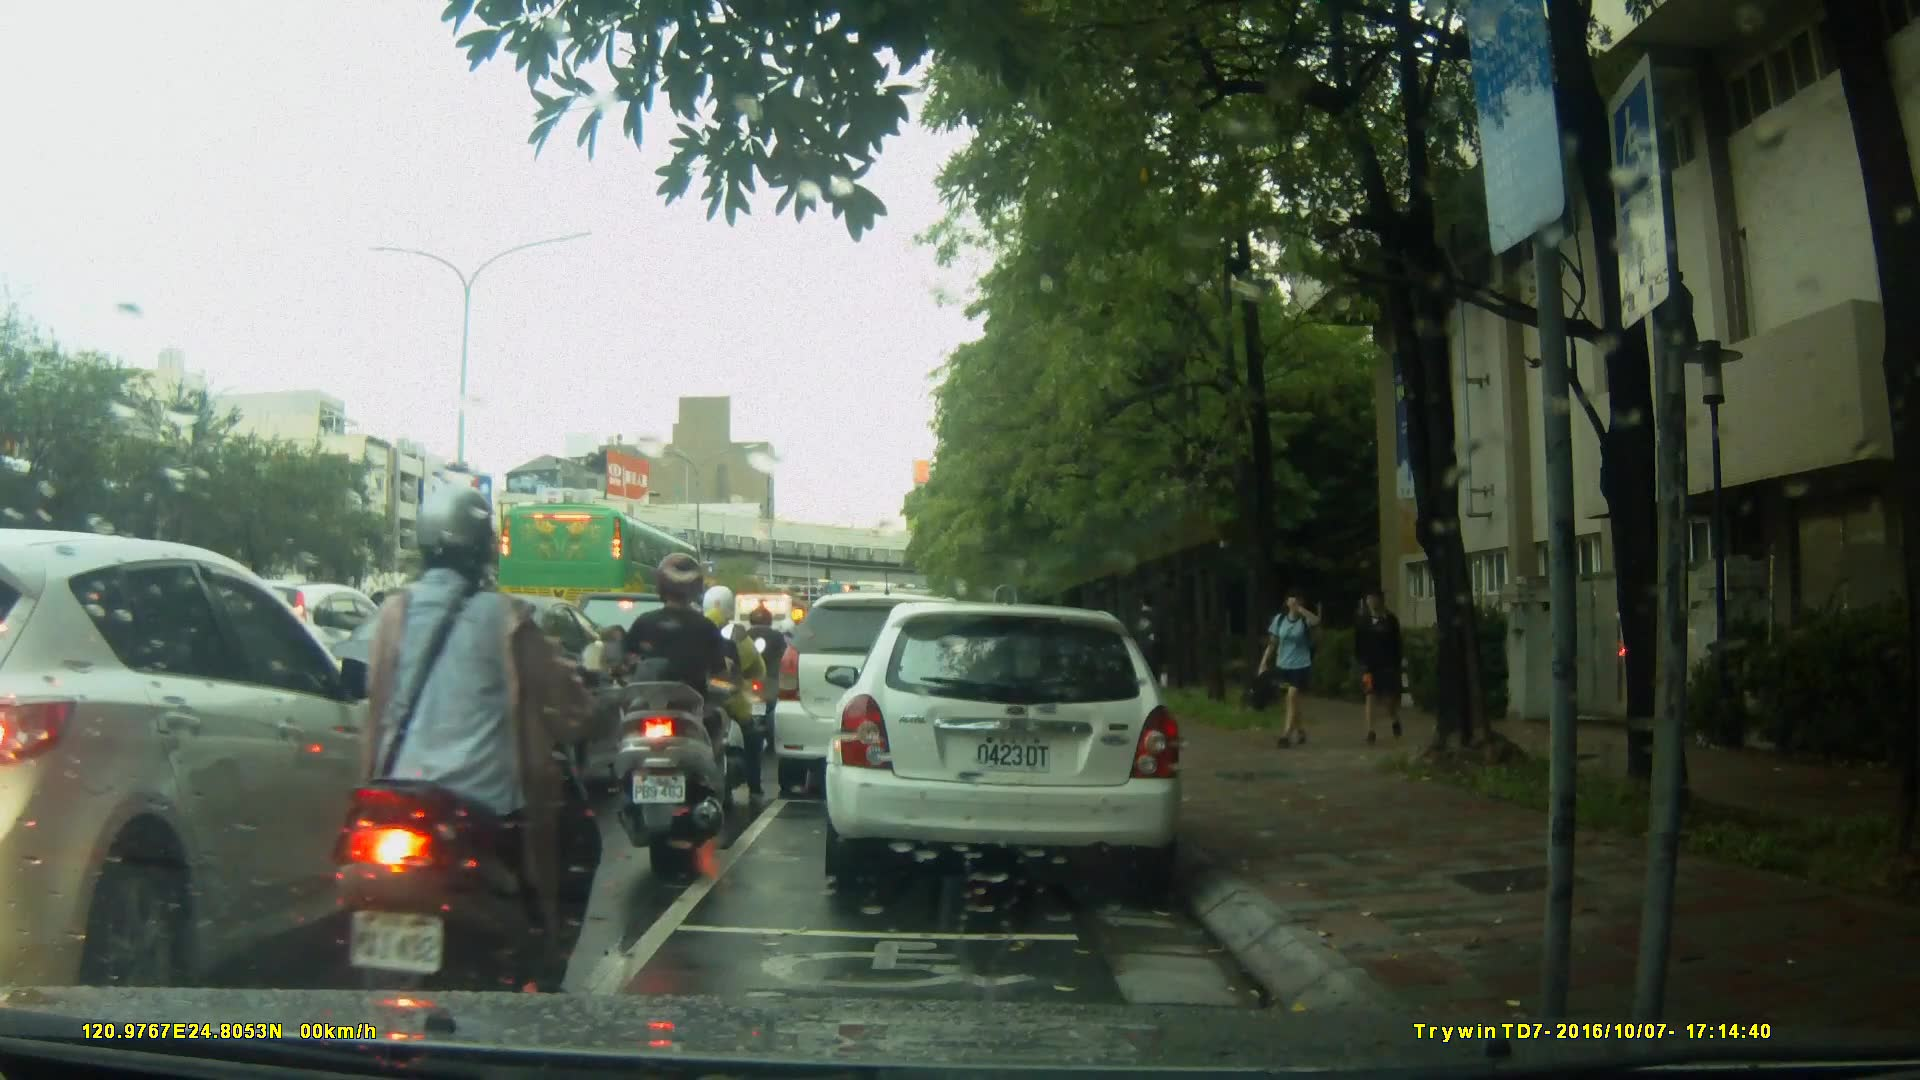pedestrian: (1243, 583, 1342, 752), (1352, 577, 1415, 756), (1125, 595, 1170, 738)
rider: (333, 483, 604, 1029), (617, 556, 738, 870), (687, 580, 773, 798), (729, 606, 798, 772)
vehicle: (1, 529, 445, 987), (831, 592, 1196, 897), (312, 590, 644, 807), (770, 592, 999, 802), (495, 501, 707, 638)
